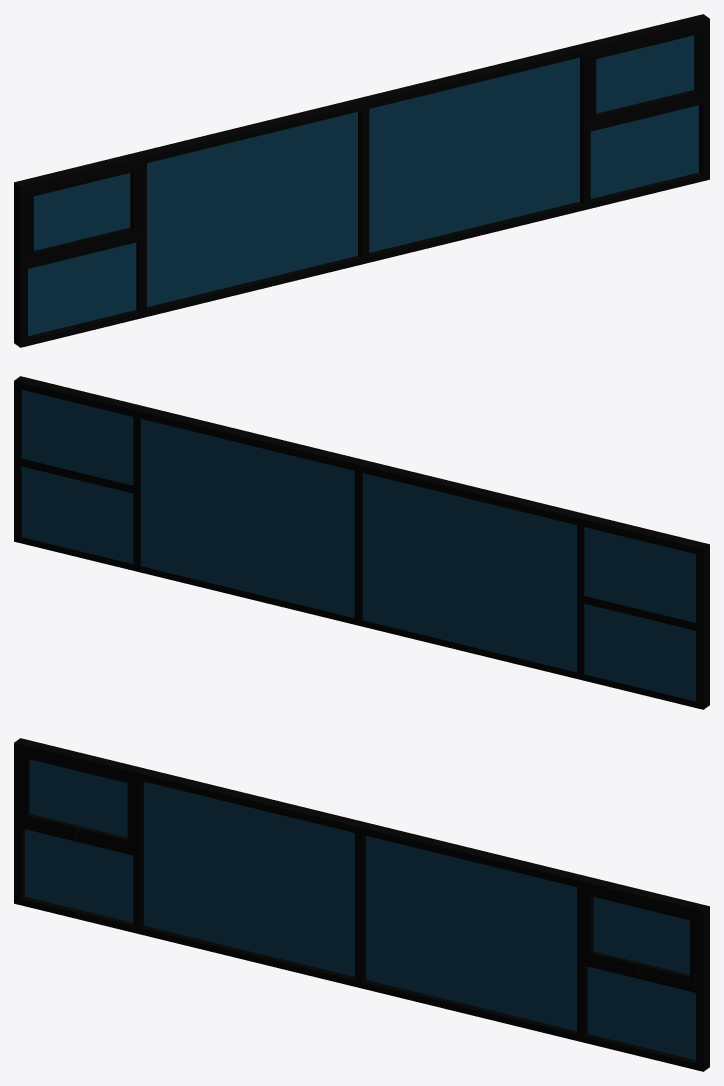
The model's file is living_window 1.fbx.
The picture shows the model from 3 angles, top to bottom: view 1: azimuth 30°, elevation 25°; view 2: azimuth 150°, elevation 25°; view 3: azimuth 330°, elevation 25°; orthographic projection.
Parts seen in each view (by area): view 1: living_window4; view 2: living_window4; view 3: living_window4.
Boxes of the visible parts, <box> form: living_window4: <box>14,14,709,347</box>; living_window4: <box>14,376,709,709</box>; living_window4: <box>14,738,709,1071</box>.
Bounding box in the file's own units: 0.1256 × 0.028 × 0.00304.
